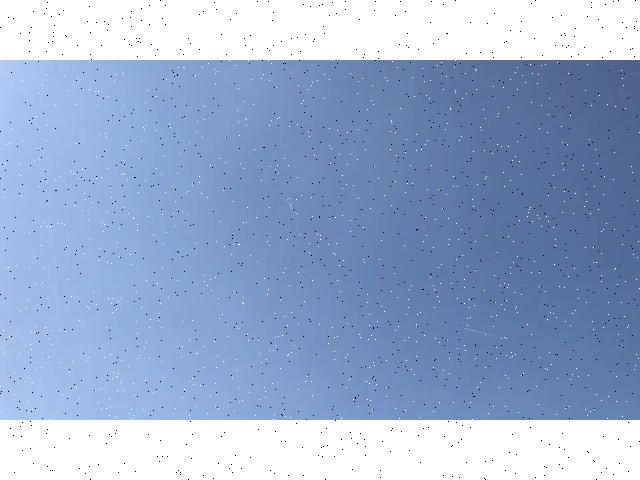Anti-Drone: (281, 188, 311, 224)
